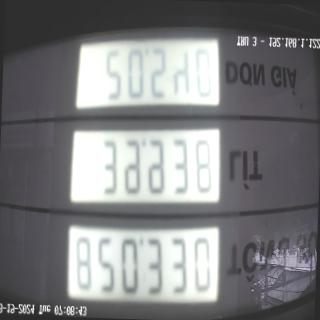screen: (59, 2, 236, 318)
